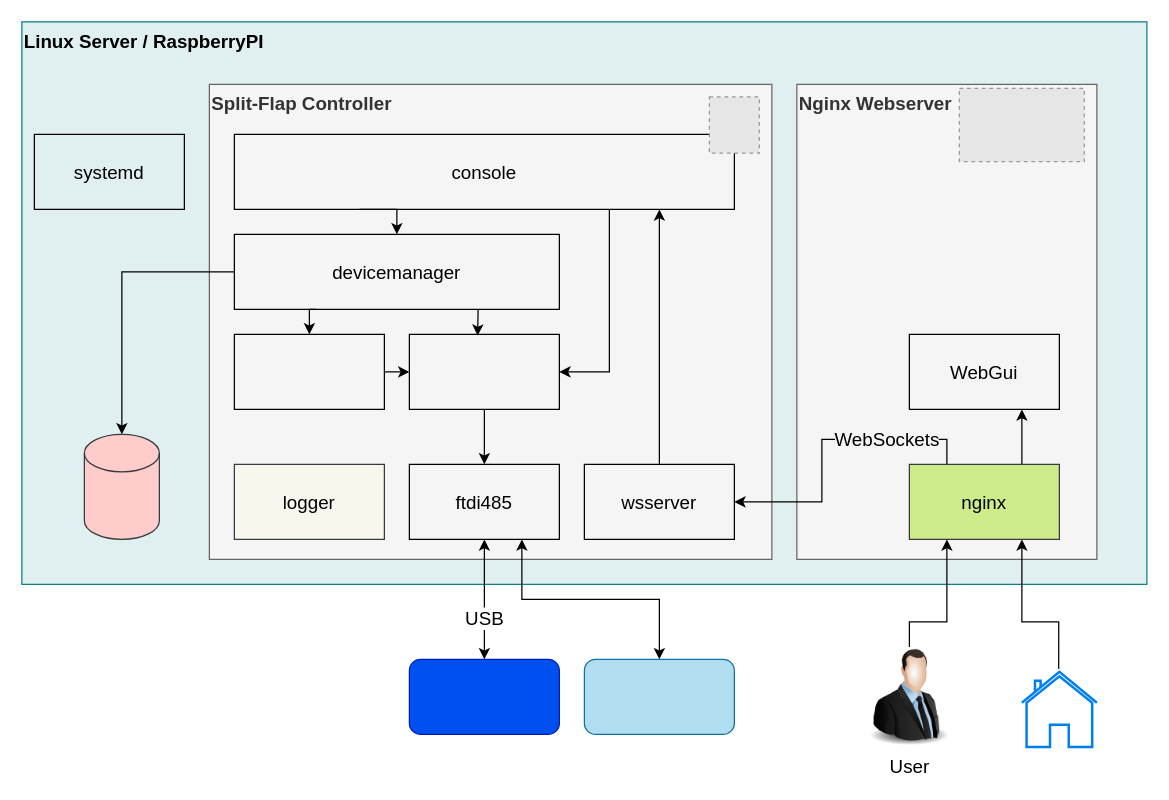
This 1169x800 diagram has some shape labels left out. Grey dashed boxes stand in for pictures. Here are the shapes that lost their labels. From the top down, the centre of each, then its label:
the point at 308,371: sfbus-utils
the point at 483,371: sfbus
the point at 121,486: Config (JSON)
the point at 483,696: RS-485 Interface
the point at 658,696: GPIO (planned)
the point at 1059,709: Homeassistant
